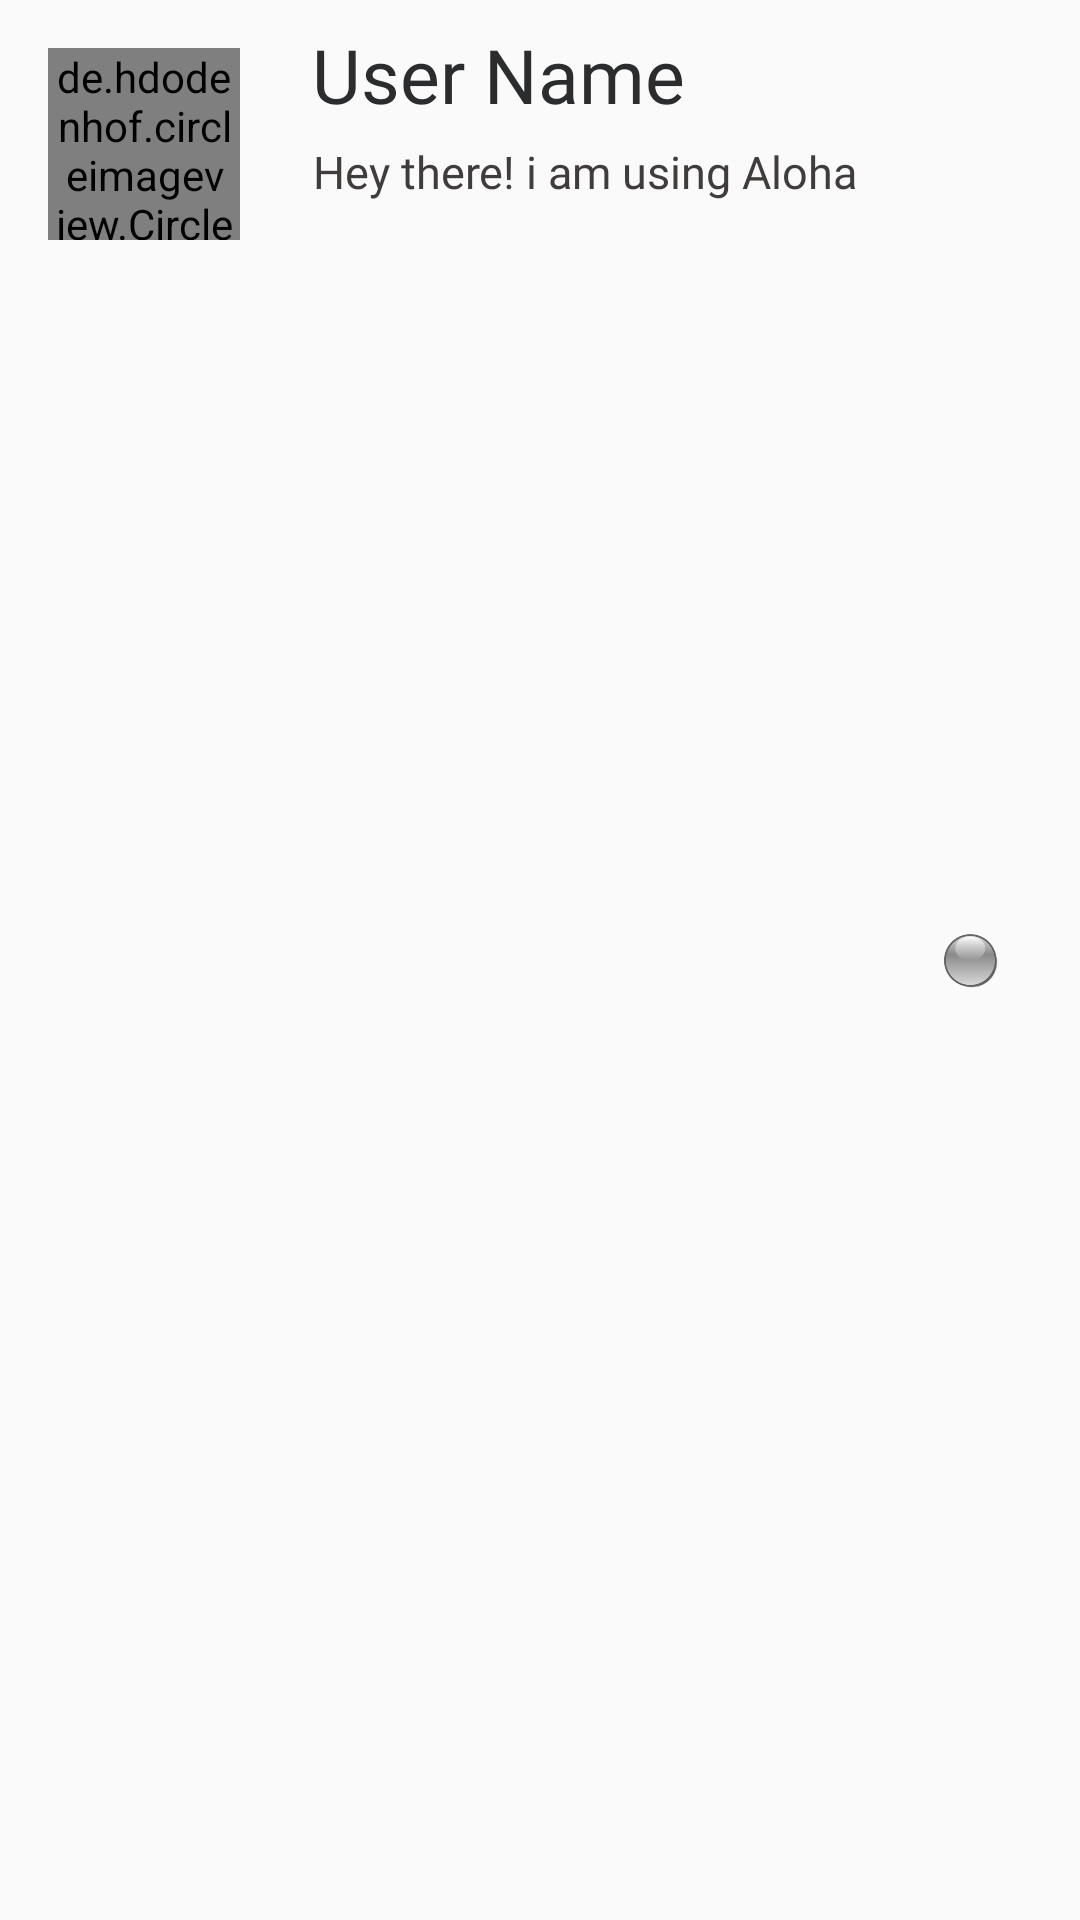

Where to tap for icons on this 1080px x 1920px app screen, as point (x, y):
offline: point (970, 960)
